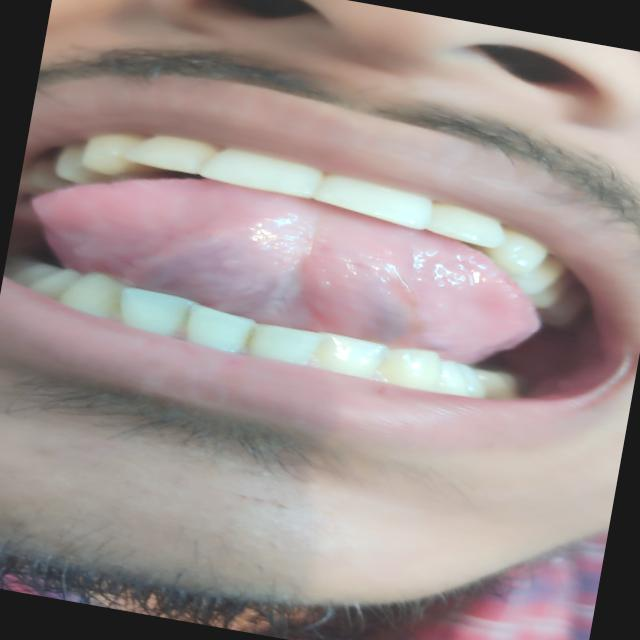No Cancer: (52, 161, 550, 376)
